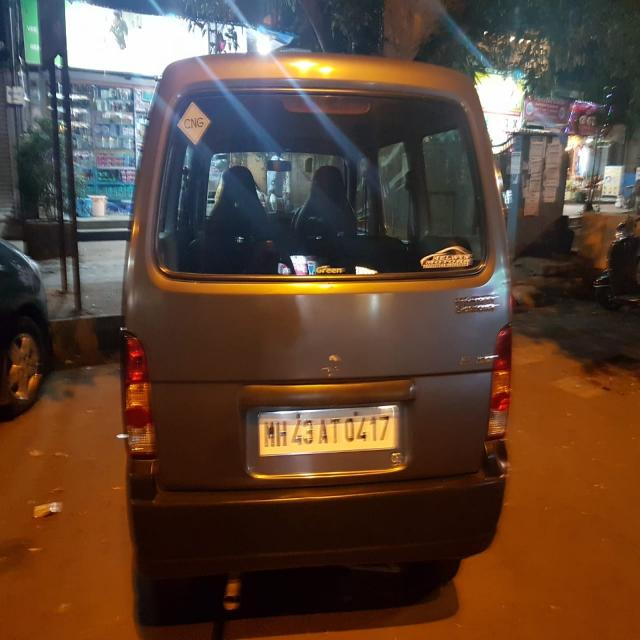Number-Plate: (258, 411, 395, 454)
